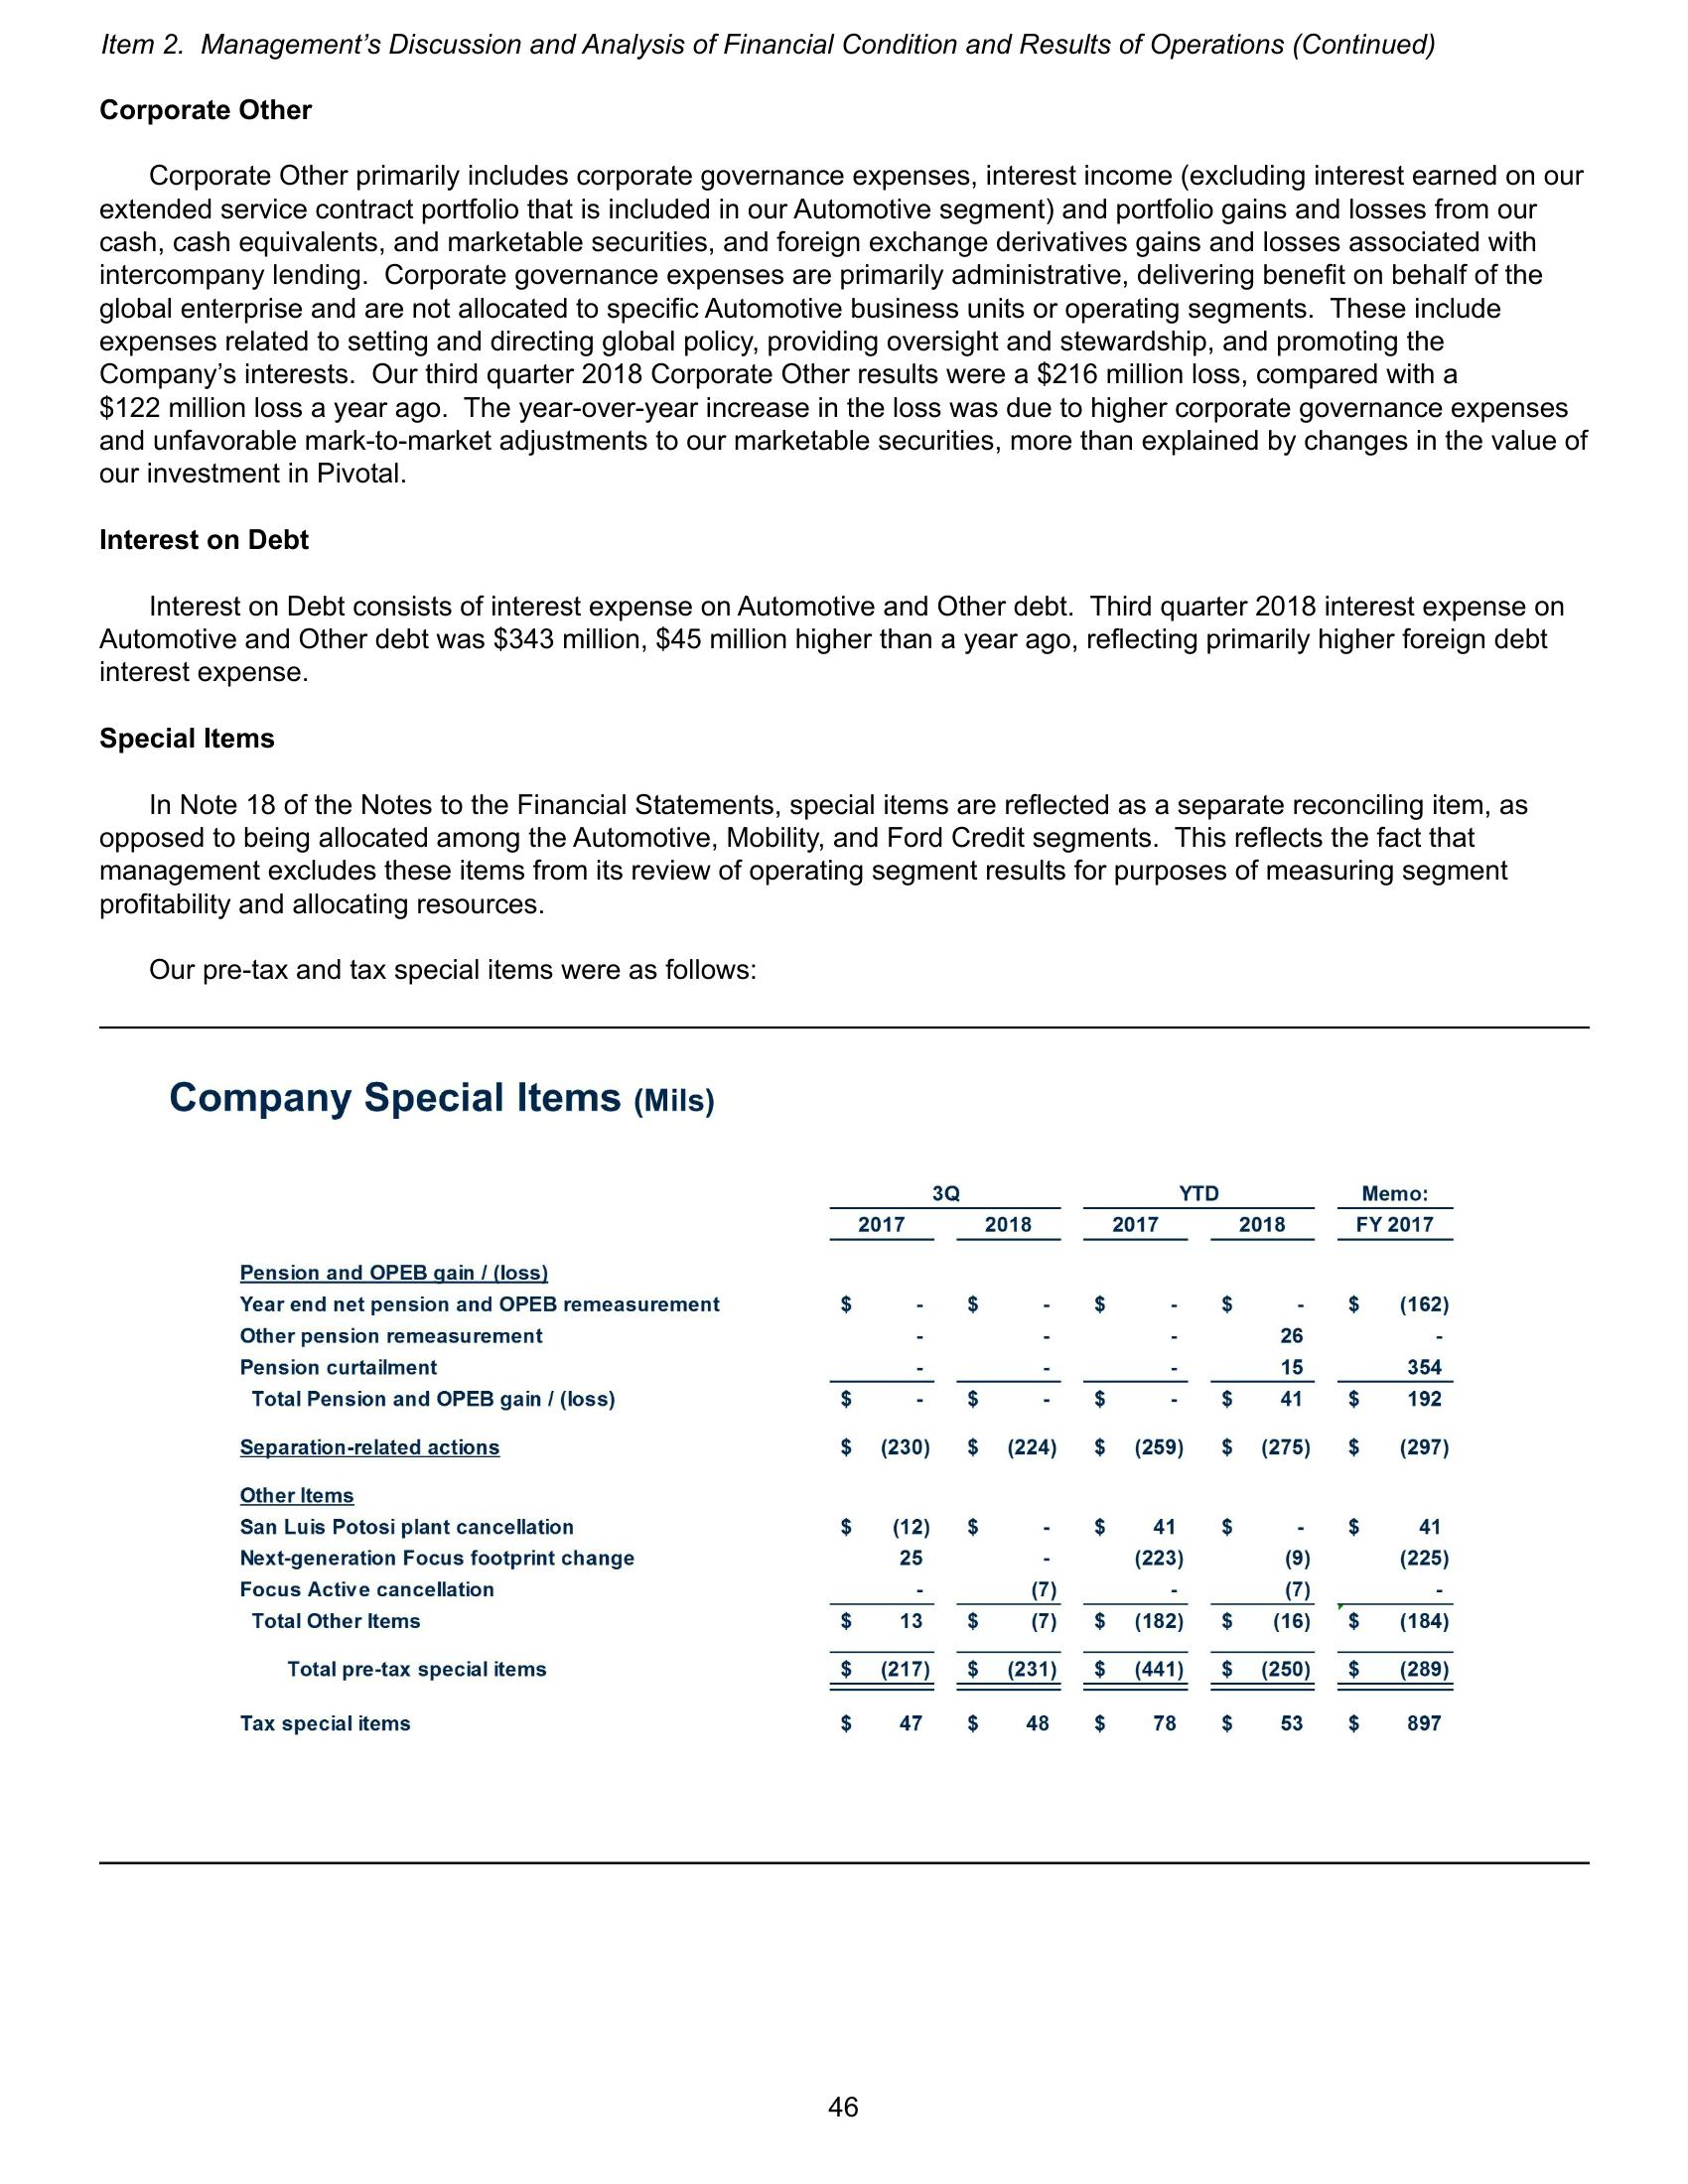table: (234, 1174, 1466, 1735)
